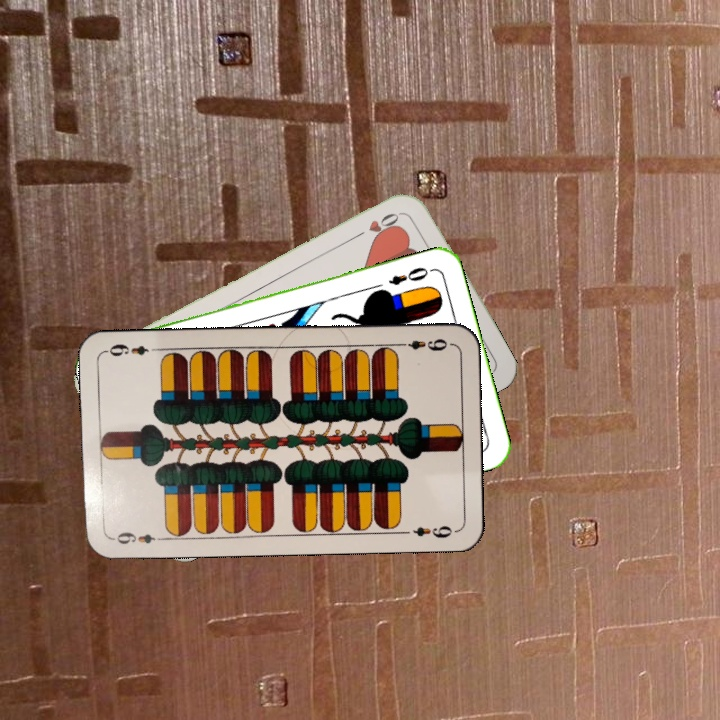E9: (108, 528, 167, 547), (394, 335, 450, 354)
EO: (384, 263, 436, 288)
HO: (350, 208, 405, 241)
